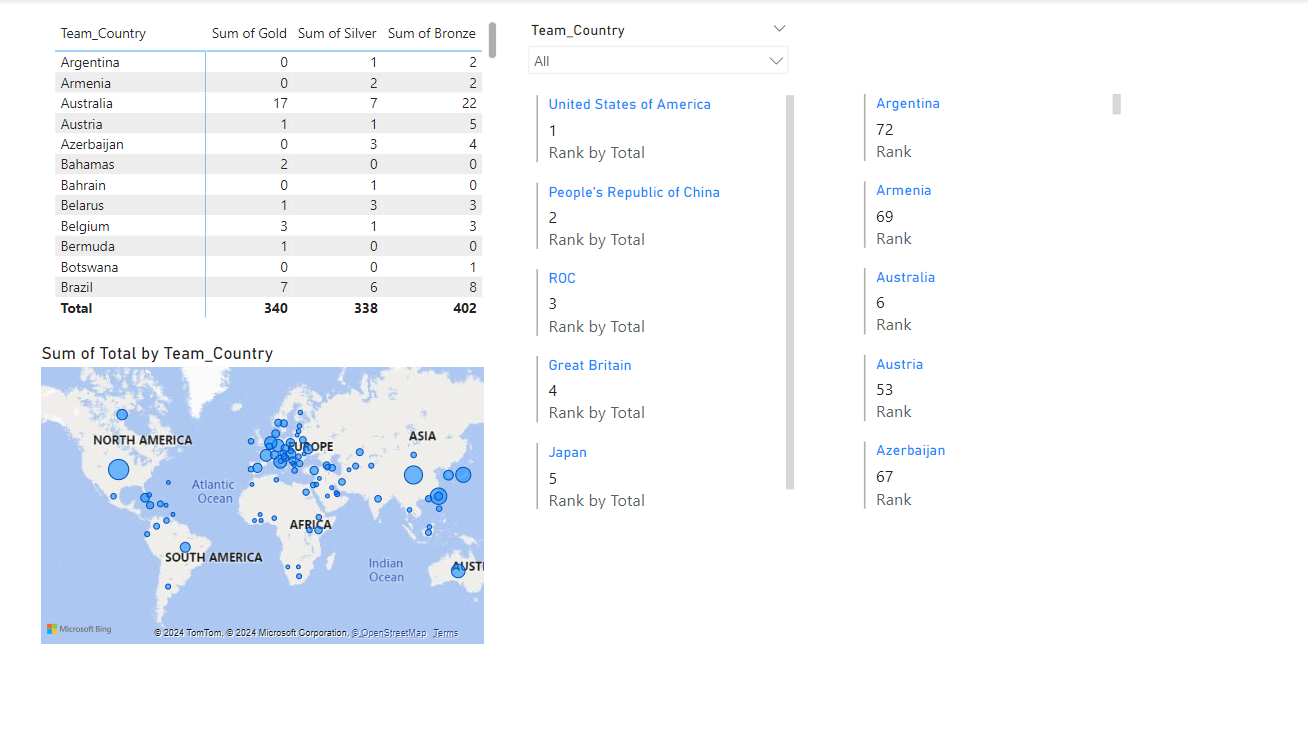

Layout of this report page (visuals, bound fields, positions):
{"tool":"powerbi","page":{"name":"Medals","canvas":[1280,720],"ordinal":3},"visuals":[{"type":"multiRowCard","fields":{"Values":["Medals.Team_Country","Medals.Rank by Total"]},"box":[520.5,88.7,261.6,414.6],"z":0},{"type":"pivotTable","fields":{"Rows":["Medals.Team_Country"],"Values":["Sum(Medals.Gold)","Sum(Medals.Silver)","Sum(Medals.Bronze)"]},"box":[49.8,17.2,441.8,299.6],"z":1000},{"type":"map","fields":{"Category":["Medals.Team_Country"],"Size":["Sum(Medals.Total)"]},"box":[36.2,335.8,442.7,299.6],"z":2000},{"type":"slicer","fields":{"Values":["Medals.Team_Country"]},"box":[506.9,17.2,275.2,71.5],"z":2001},{"type":"multiRowCard","fields":{"Values":["Medals.Team_Country","Medals.Rank"]},"box":[841.3,88.3,260.9,415],"z":2002}]}

Visuals, with their boxes in screenshot pixels (x1, y1, x2, y2), scaled from the page's 1280x720 canvas onto the 1308x733 screenshot:
multiRowCard - Medals.Team_Country x Medals.Rank by Total: {"left": 532, "top": 90, "right": 799, "bottom": 512}
pivotTable - Medals.Team_Country x Sum(Medals.Gold): {"left": 51, "top": 18, "right": 502, "bottom": 323}
map - Medals.Team_Country x Sum(Medals.Total): {"left": 37, "top": 342, "right": 489, "bottom": 647}
slicer - Medals.Team_Country: {"left": 518, "top": 18, "right": 799, "bottom": 90}
multiRowCard - Medals.Team_Country x Medals.Rank: {"left": 860, "top": 90, "right": 1126, "bottom": 512}
